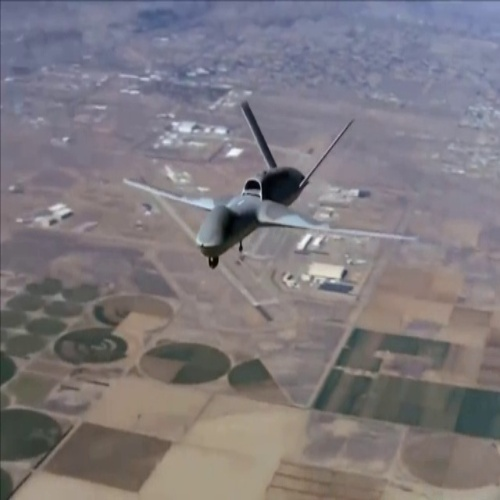uav941: (123, 97, 420, 269)
